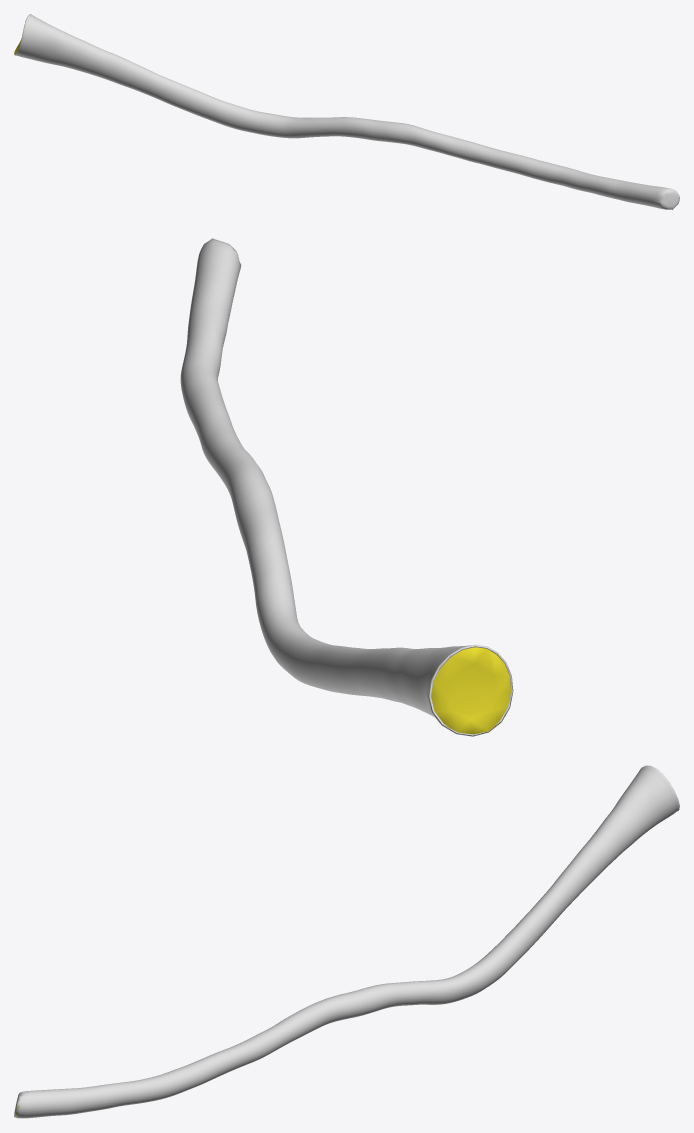
The model's file is VH_F_Nerves_Eye_L.fbx.
3 renders of one model, top to bottom at view 1: azimuth 30°, elevation 25°; view 2: azimuth 150°, elevation 25°; view 3: azimuth 270°, elevation 25°, orthographic. The views are drawn at different scales.
Visible parts, largest first — view 1: VH_F_dura_mater_left; view 2: VH_F_dura_mater_left, VH_F_left_optic_nerve; view 3: VH_F_dura_mater_left.
Part boxes in pixels (box(x1,y1,x2,y2)): VH_F_dura_mater_left: box(14, 14, 679, 209); VH_F_dura_mater_left: box(180, 238, 513, 736); VH_F_left_optic_nerve: box(431, 647, 510, 734); VH_F_dura_mater_left: box(14, 765, 679, 1118).
Size of the model in its own units: 3.58 by 0.8845 by 4.12.
